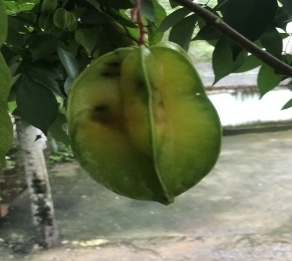Khe: (63, 40, 224, 210)
